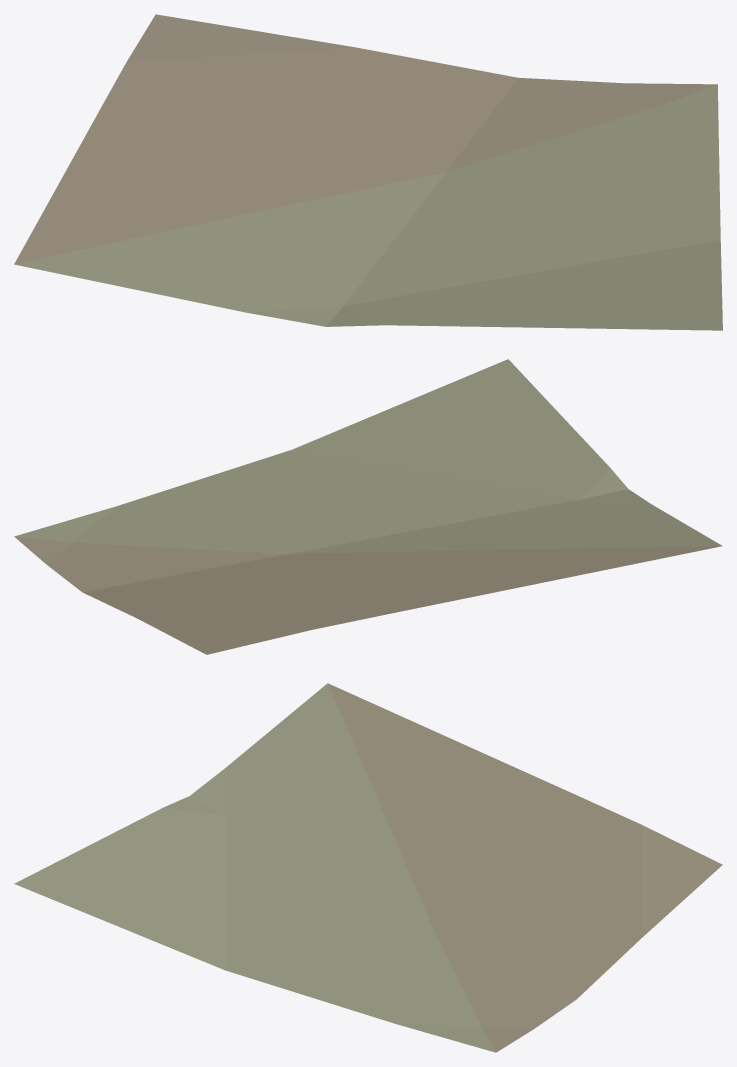
The model's file is farm_-13_-25_soil.glb.
3 renders of one model, top to bottom at view 1: azimuth 30°, elevation 25°; view 2: azimuth 150°, elevation 25°; view 3: azimuth 270°, elevation 25°, orthographic. The views are drawn at different scales.
Parts seen in each view (by area): view 1: geometry_0; view 2: geometry_0; view 3: geometry_0.
Boxes of the visible parts, x1,y1,x2,y2 form: geometry_0: (14, 14, 722, 330); geometry_0: (14, 359, 722, 654); geometry_0: (14, 683, 722, 1052).
Size of the model in its own units: 133 by 16.26 by 136.
